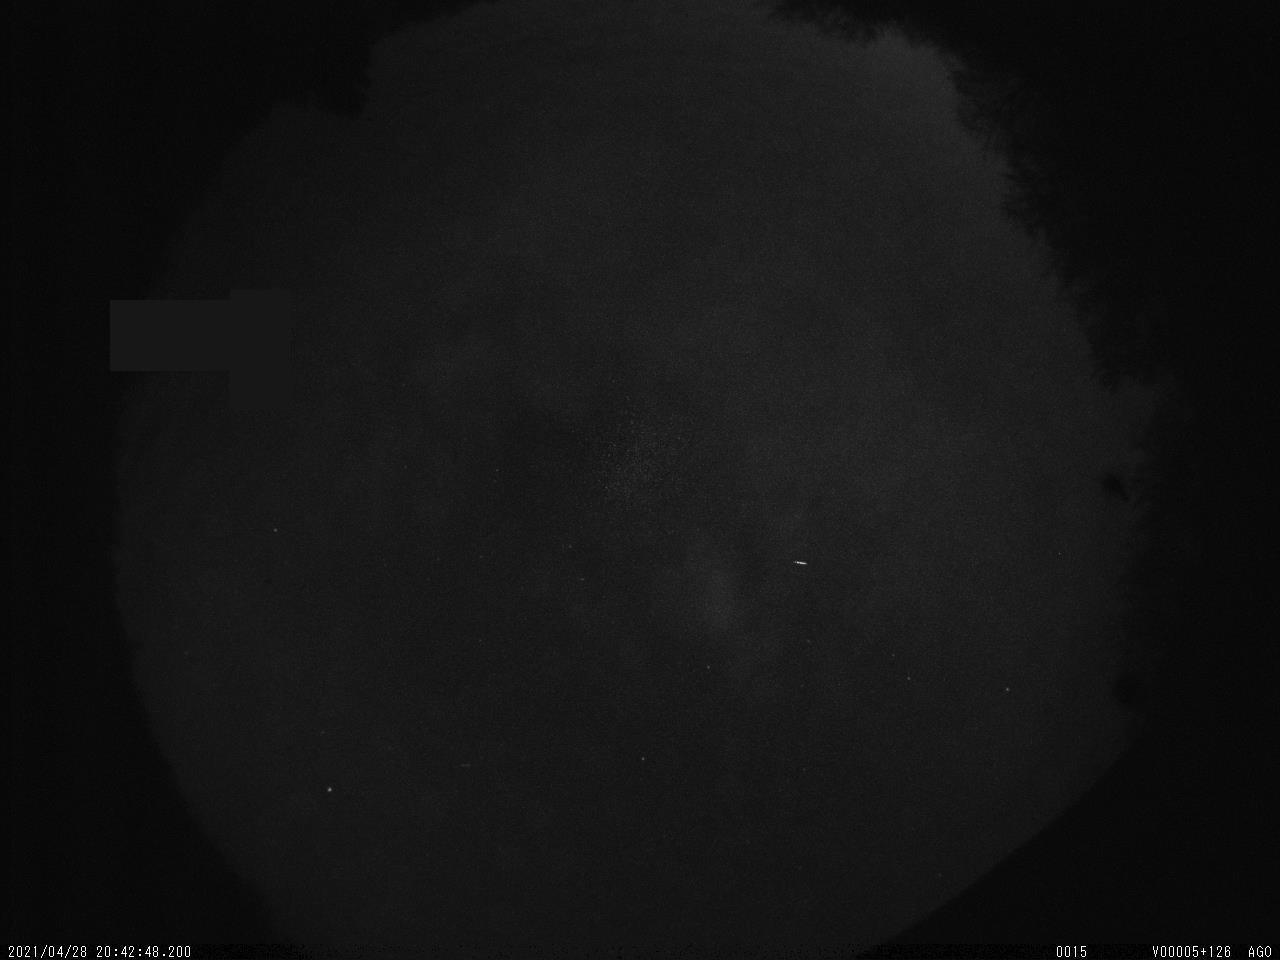meteor: (791, 554, 815, 573)
